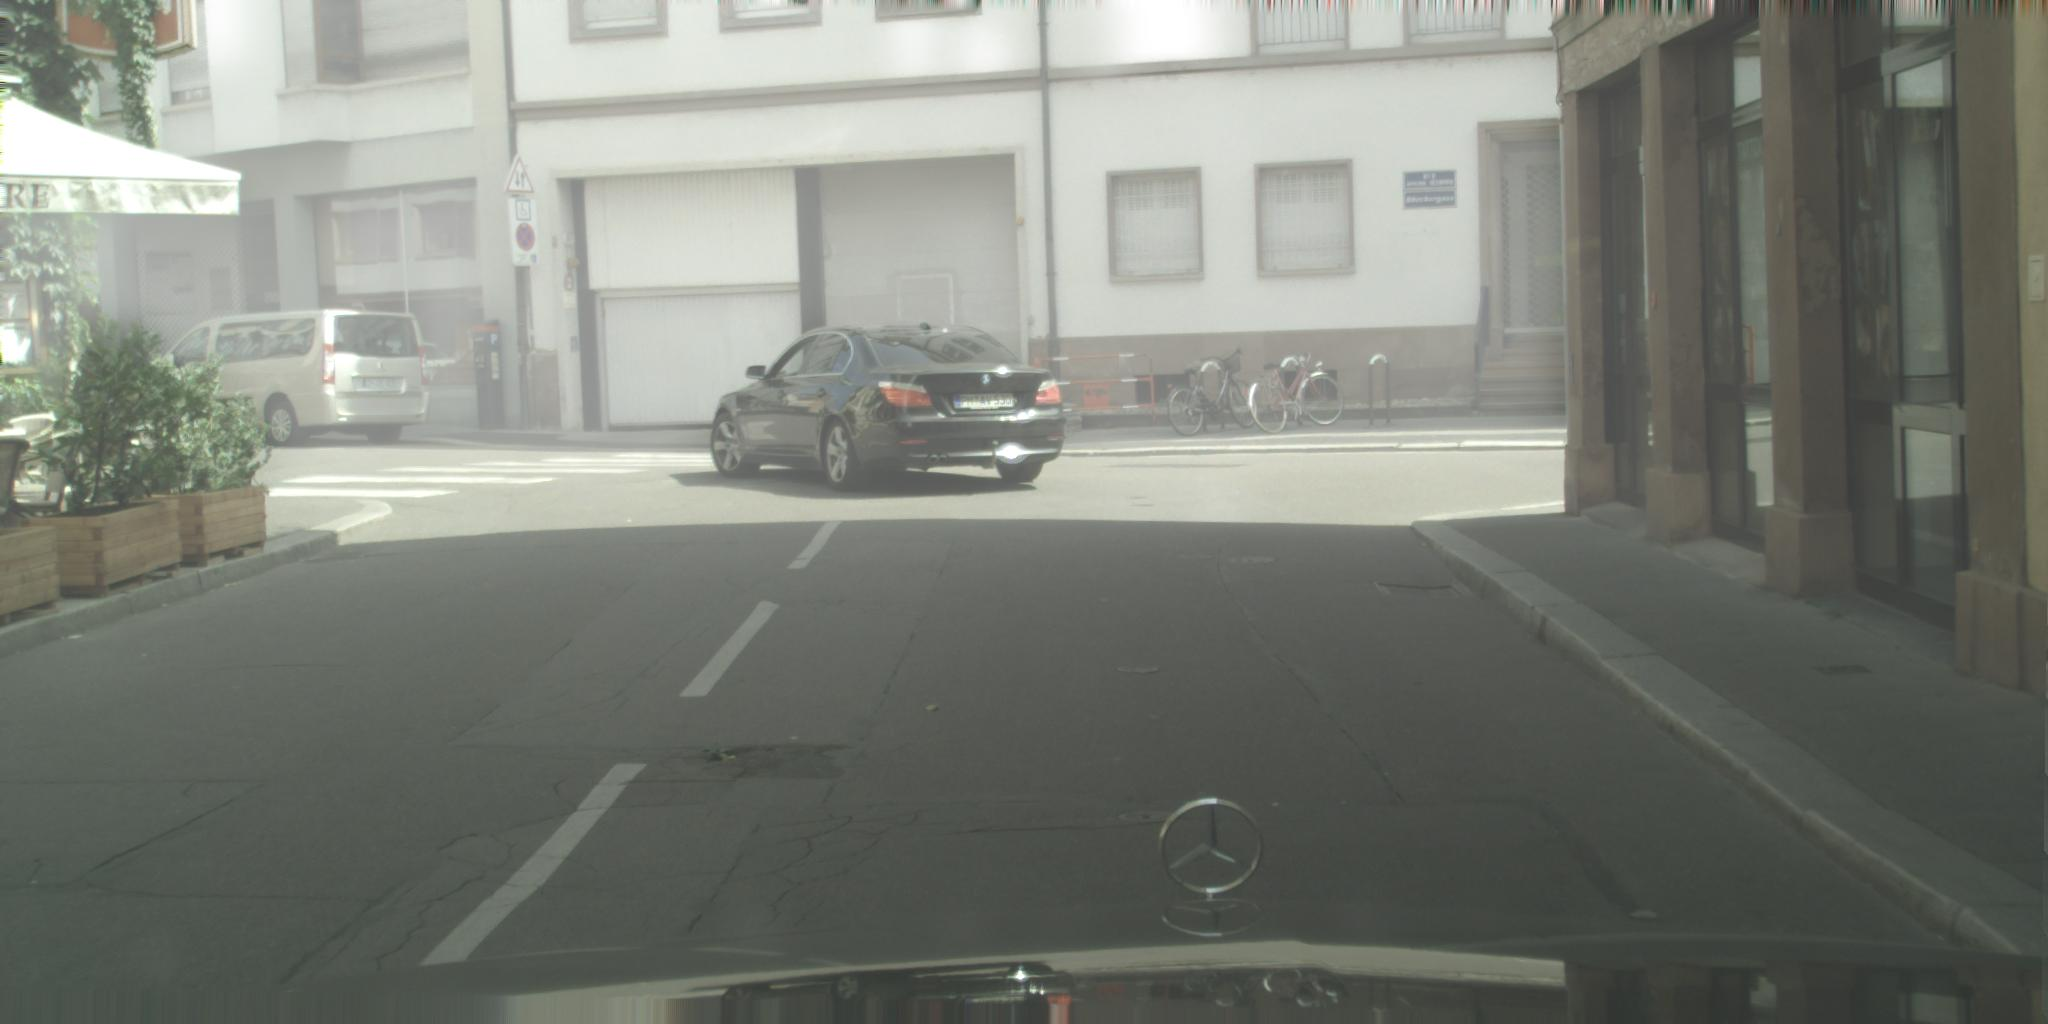car: (711, 325, 1067, 492), (152, 310, 431, 447)
